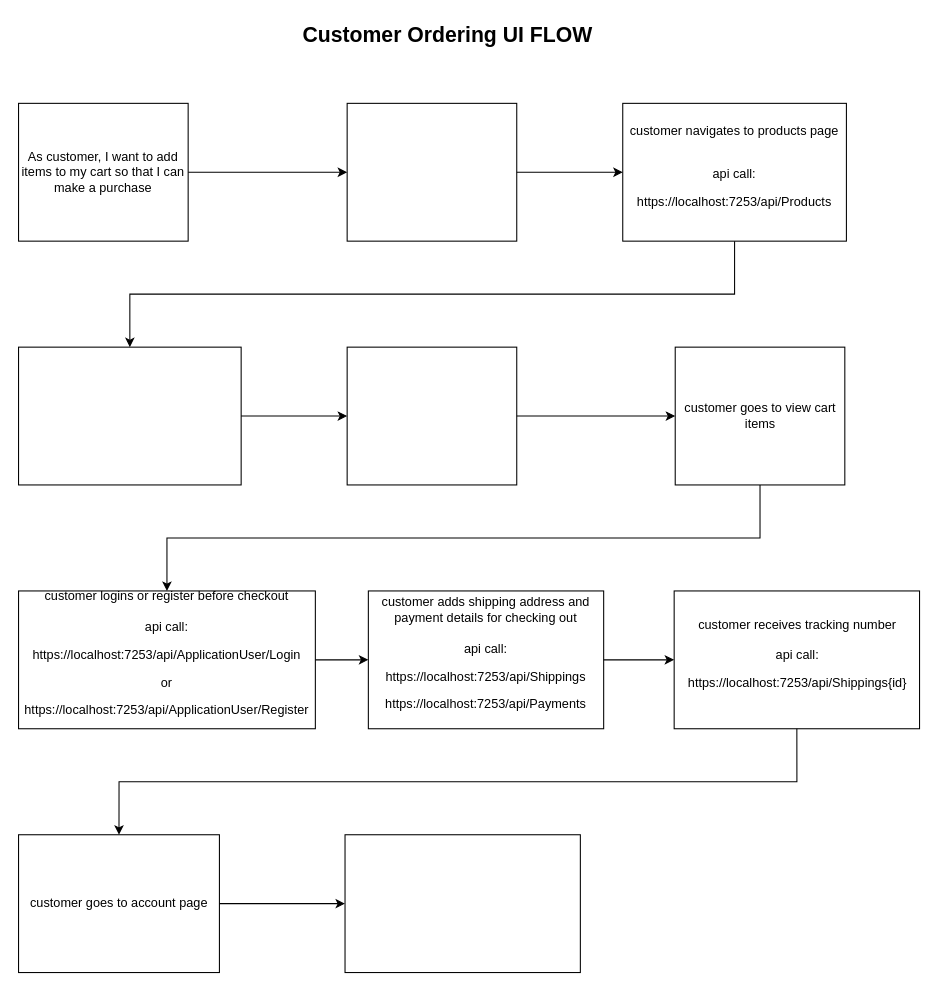
Some shapes in this 938 by 991 pixel diagram are drawn without their labels. The centre of each missing label's shape, as x and y in pixels:
customer adds product to cart: point (431, 415)
customer sees the landing page: point (431, 171)
customer views a product api call: https://localhost:7253/api/Products/{id}: point (129, 415)
customer views order details api call: https://localhost:7253/api/Orders/{id}: point (462, 903)
